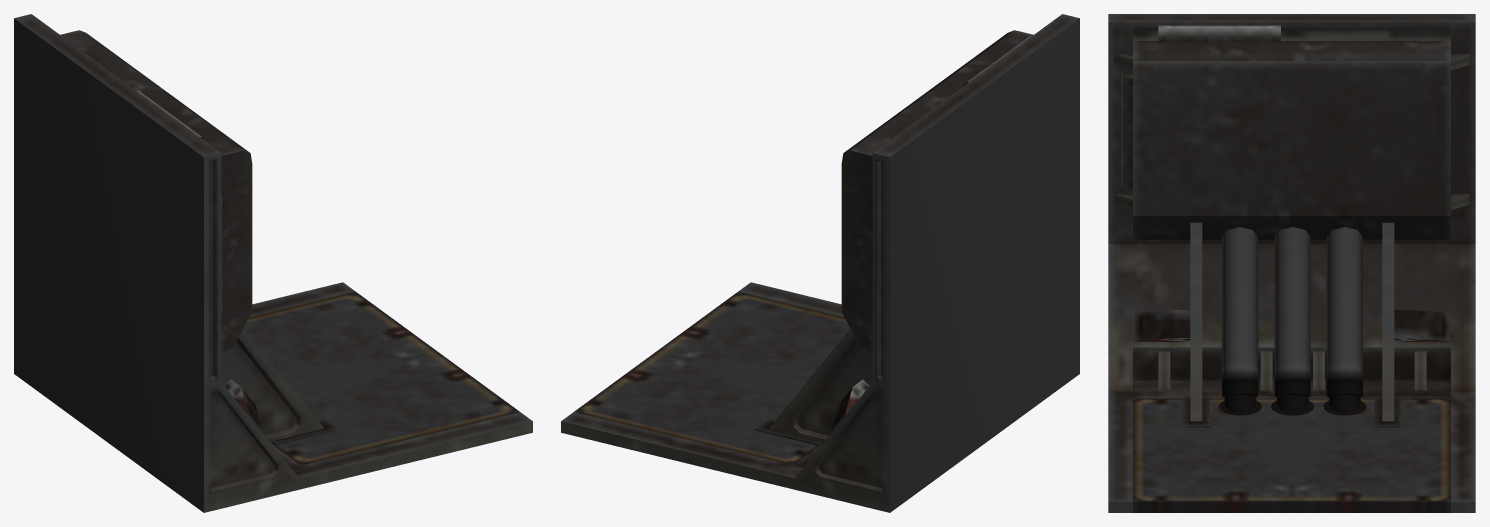
Rendered from Wall-Floor_09.FBX.
3 renders of one model, left to right at view 1: azimuth 30°, elevation 25°; view 2: azimuth 150°, elevation 25°; view 3: azimuth 270°, elevation 25°, orthographic. The views are drawn at different scales.
Visible parts, largest first — view 1: Wall-Floor_09; view 2: Wall-Floor_09; view 3: Wall-Floor_09.
Part boxes in pixels (x1,y1,x2,y2): Wall-Floor_09: [14, 14, 532, 512]; Wall-Floor_09: [561, 14, 1079, 512]; Wall-Floor_09: [1108, 14, 1475, 512].
Size of the model in its own units: 300 by 319 by 300.
